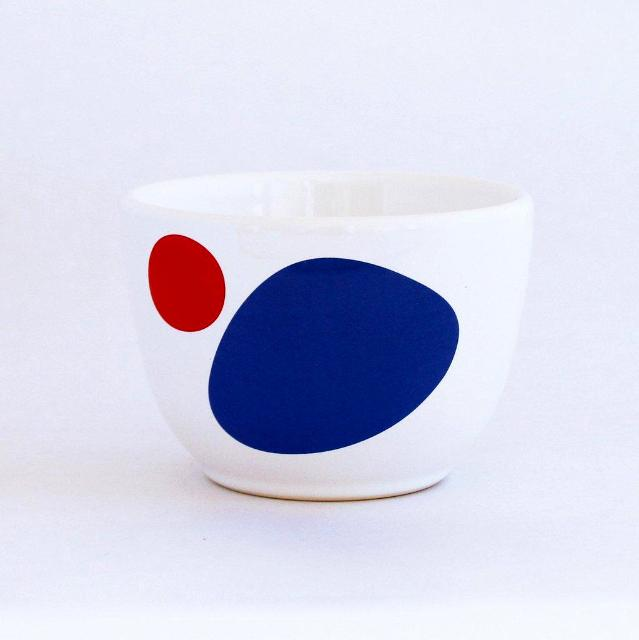Bowl: (125, 173, 532, 499)
